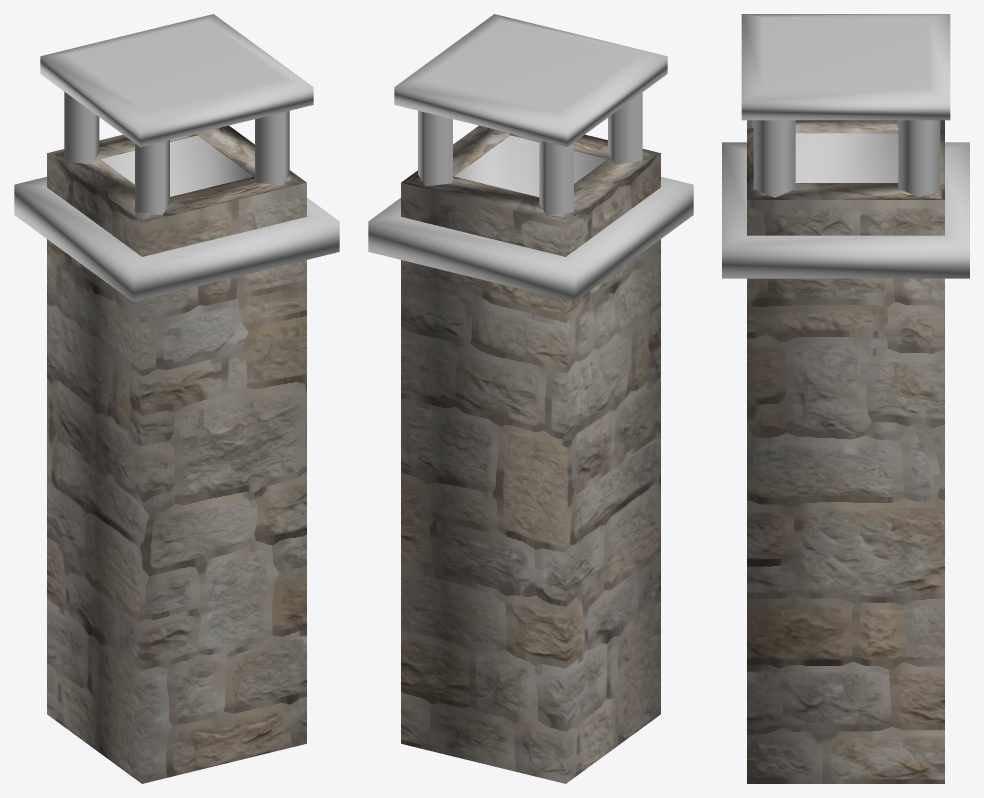
File: Chimney2.fbx
3 views of the same model, side by side, from view 1: azimuth 30°, elevation 25°; view 2: azimuth 150°, elevation 25°; view 3: azimuth 270°, elevation 25° (orthographic). The views are drawn at different scales.
Visible parts, largest first — view 1: Mesh; view 2: Mesh; view 3: Mesh.
Part boxes in pixels (<box>): Mesh: <box>14,14,339,783</box>; Mesh: <box>368,14,693,783</box>; Mesh: <box>722,14,969,783</box>.
Size of the model in its own units: 137 by 421 by 137.
